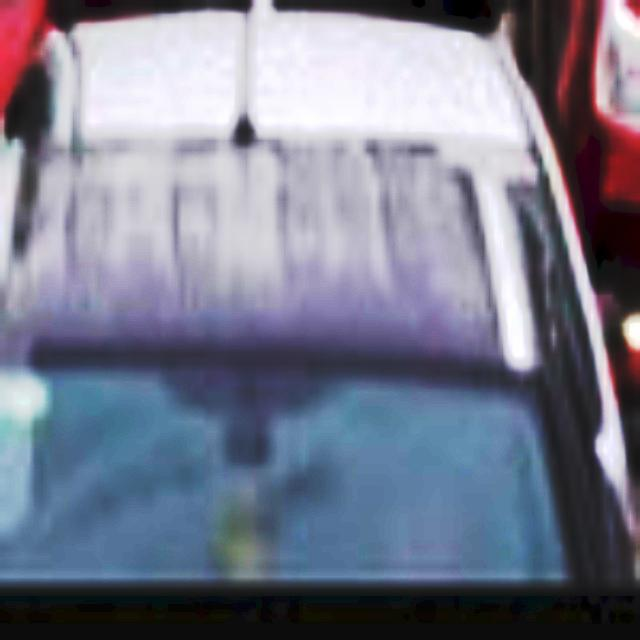Car: (0, 0, 639, 639), (495, 0, 639, 480)
